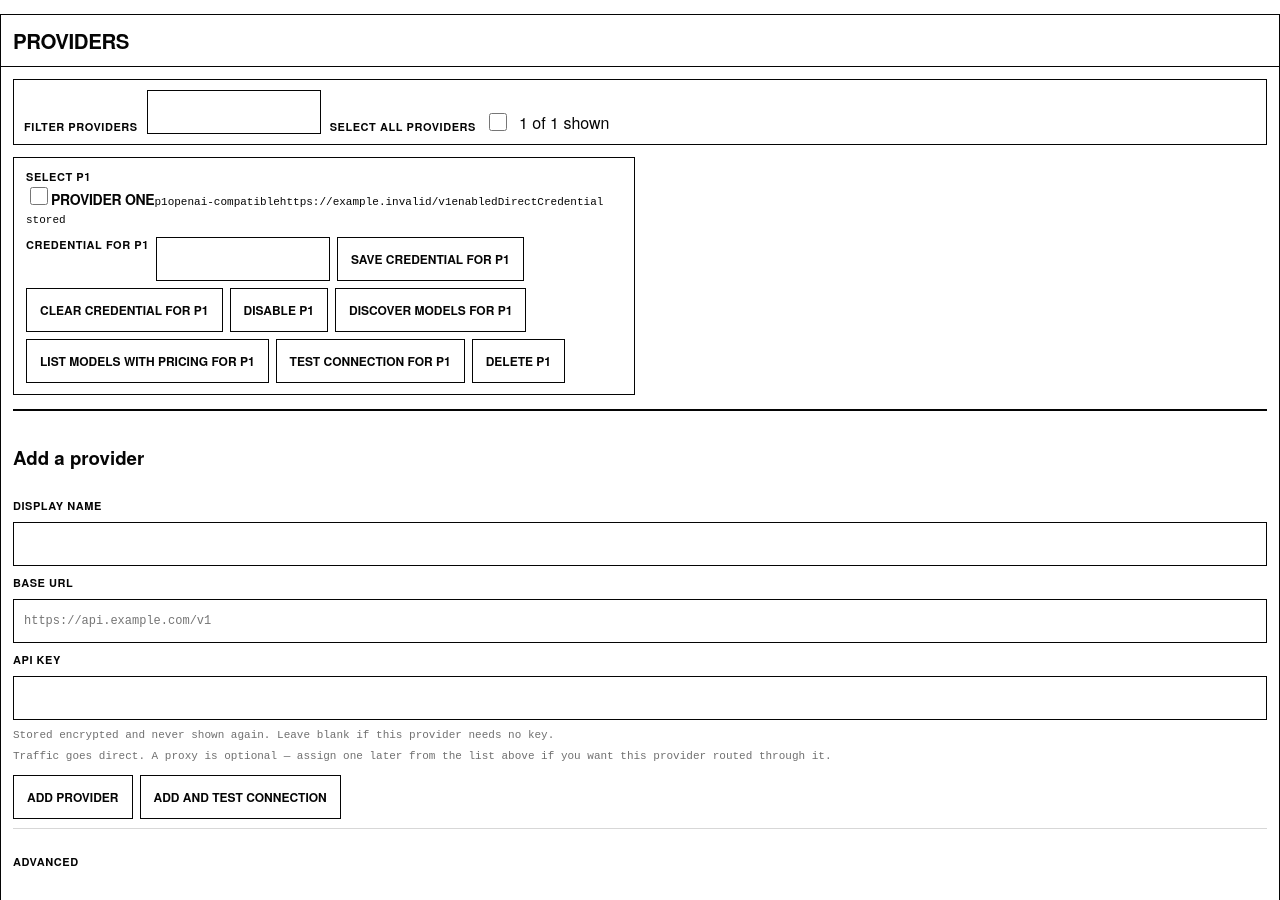
Test: free-first catalogue display › qualifies FREE_TIER and FREE_PREVIEW so neither reads as permanently free
Click the button with test id "catalogue-p1" at (147, 361), box x1=26 y1=339 x2=269 y2=383
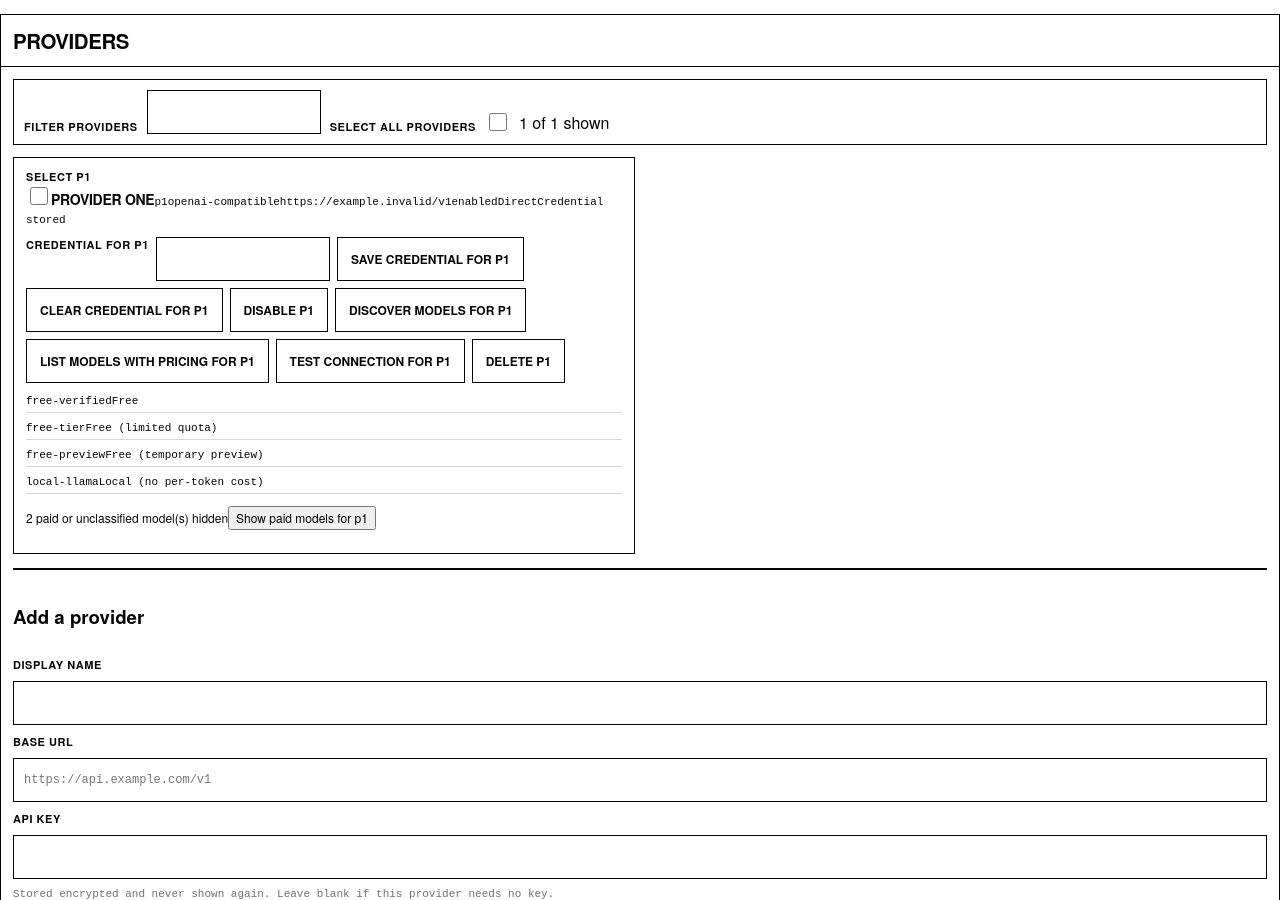
expect the list item with test id "model-free-tier" shows "limited quota": met, box x1=85 y1=422 x2=217 y2=434
expect the list item with test id "model-free-preview" shows "temporary": met, box x1=105 y1=449 x2=264 y2=461
expect the list item with test id "model-free-verified" shows "free": met, box x1=112 y1=395 x2=138 y2=407
